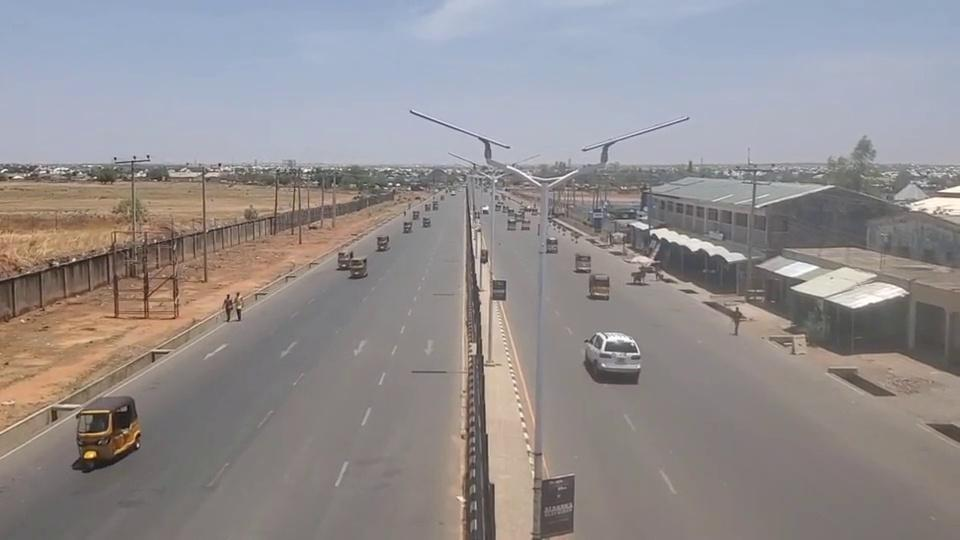car: (583, 330, 641, 379)
keke: (75, 394, 141, 469), (349, 258, 368, 278), (337, 251, 352, 269), (376, 236, 389, 251)
